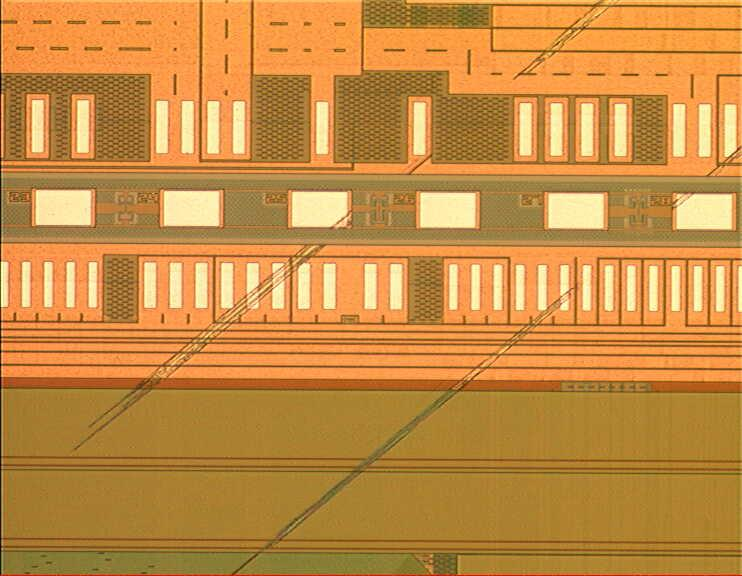SCRATCH: (55, 1, 742, 576)
